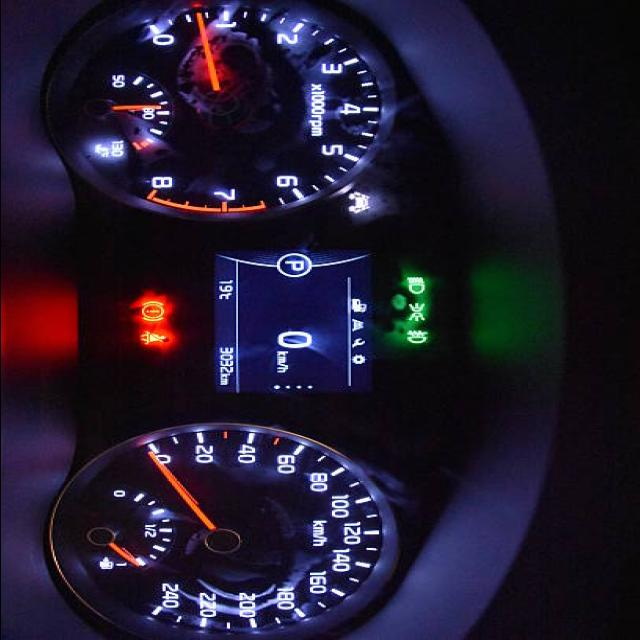Braking System Issue: (136, 298, 168, 324)
